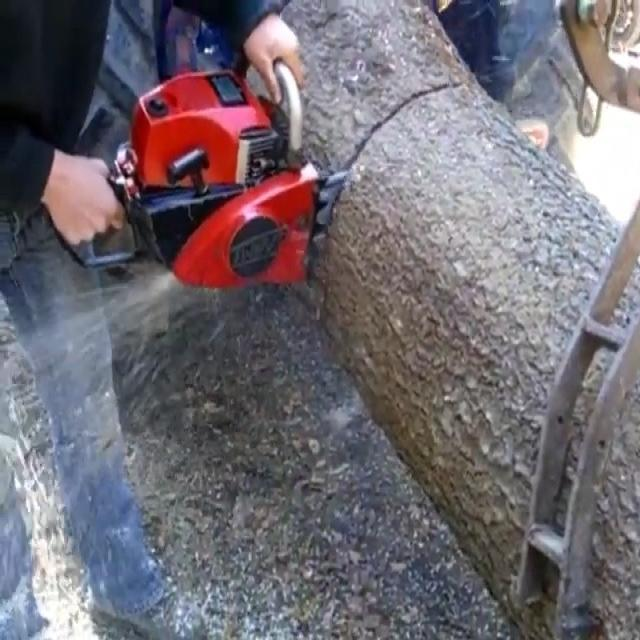Chainsaw: (56, 55, 563, 282)
